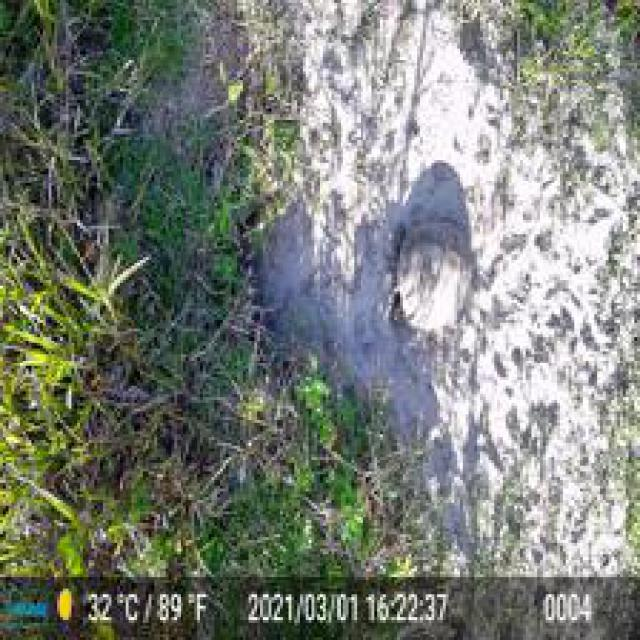tortoise: (386, 217, 474, 332)
